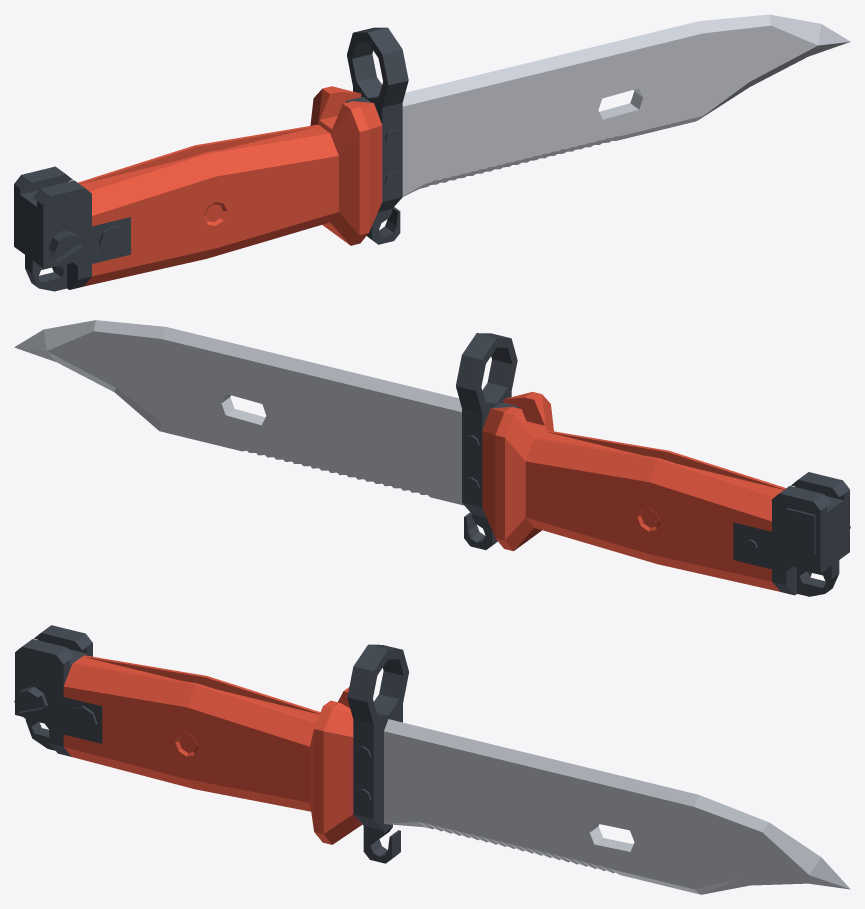
The model's file is Knife_Meele_Weapon.fbx.
3 renders of one model, top to bottom at view 1: azimuth 30°, elevation 25°; view 2: azimuth 150°, elevation 25°; view 3: azimuth 330°, elevation 25°, orthographic.
Parts seen in each view (by area): view 1: Cube.003; view 2: Cube.003; view 3: Cube.003.
Boxes of the visible parts, left/top/right/bottom form: Cube.003: left=14, top=14, right=850, bottom=291; Cube.003: left=14, top=320, right=850, bottom=596; Cube.003: left=14, top=625, right=850, bottom=894.
Size of the model in its own units: 208 by 51.02 by 20.2.
